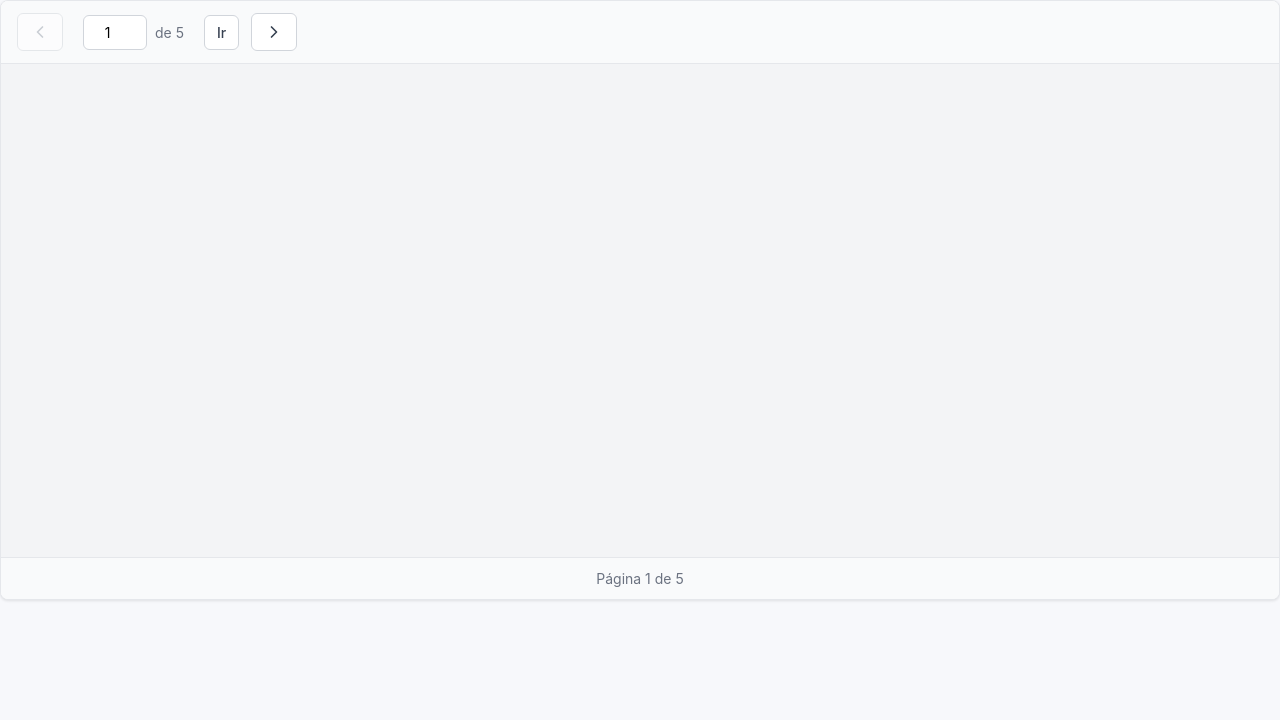
Test: PDFViewer › deve permitir navegação para próxima página
expect the number field named "Número da página" holds "1": met, box [83, 14, 147, 50]
What coordinates should you click on to do the following:
click the button named "Próxima página"
I would click on:
 (274, 32)
Its box is [251, 13, 297, 51].
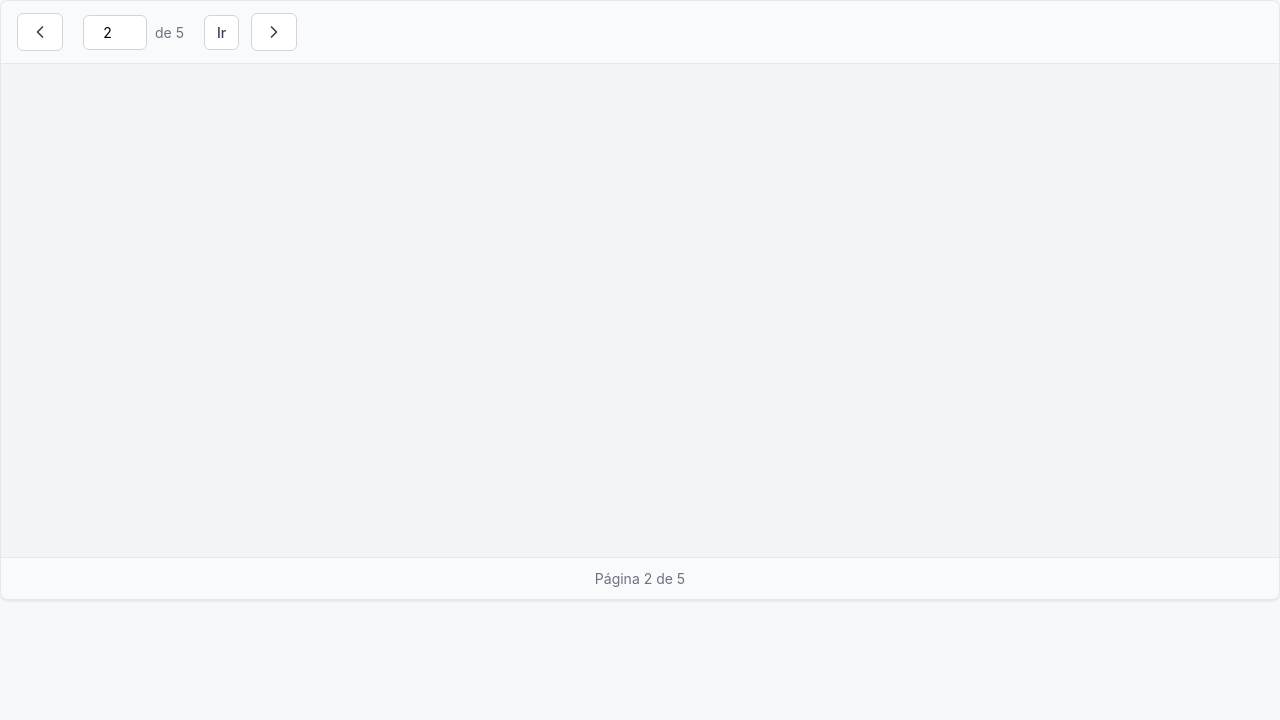
expect the number field named "Número da página" holds "2": met, box [83, 14, 147, 50]
